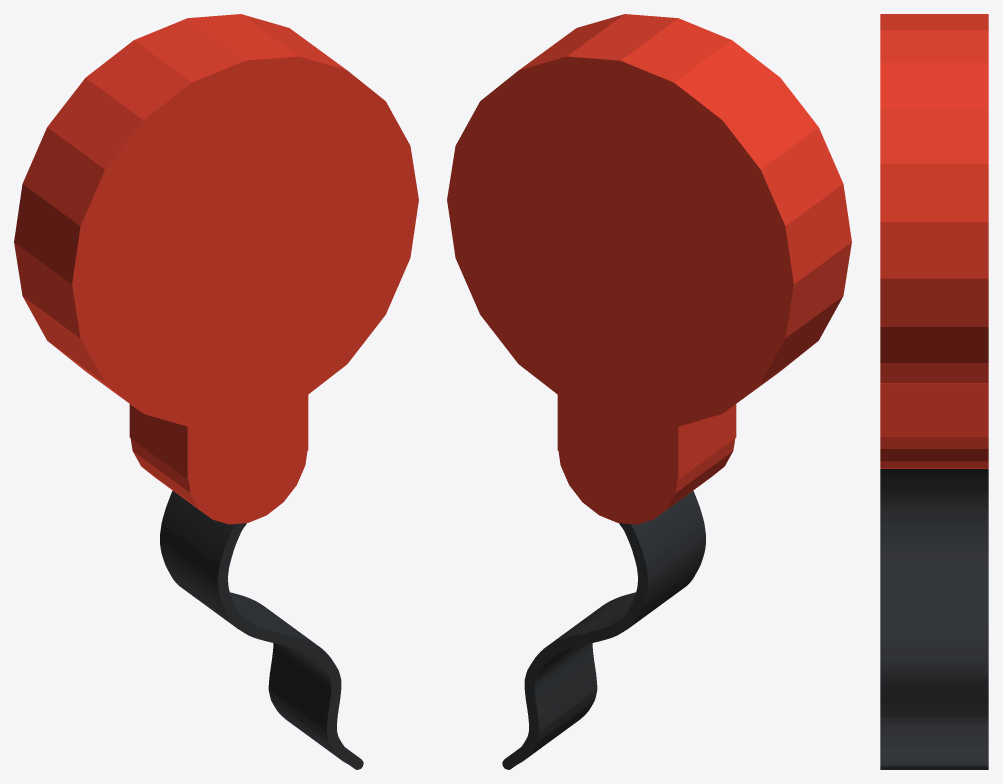
The model's file is tinker.obj.
3 renders of one model, left to right at view 1: azimuth 30°, elevation 25°; view 2: azimuth 150°, elevation 25°; view 3: azimuth 270°, elevation 25°, orthographic. The views are drawn at different scales.
Parts seen in each view (by area): view 1: group_0_15154215, group_0_2829873; view 2: group_0_15154215, group_0_2829873; view 3: group_0_15154215, group_0_2829873.
Part boxes in pixels (x1=…): group_0_15154215: x1=14, y1=14, x2=418, y2=524; group_0_2829873: x1=160, y1=490, x2=363, y2=769; group_0_15154215: x1=447, y1=14, x2=851, y2=524; group_0_2829873: x1=502, y1=490, x2=705, y2=769; group_0_15154215: x1=880, y1=14, x2=988, y2=468; group_0_2829873: x1=880, y1=469, x2=988, y2=769.
Bounding box in the file's own units: 69 × 140 × 20.
